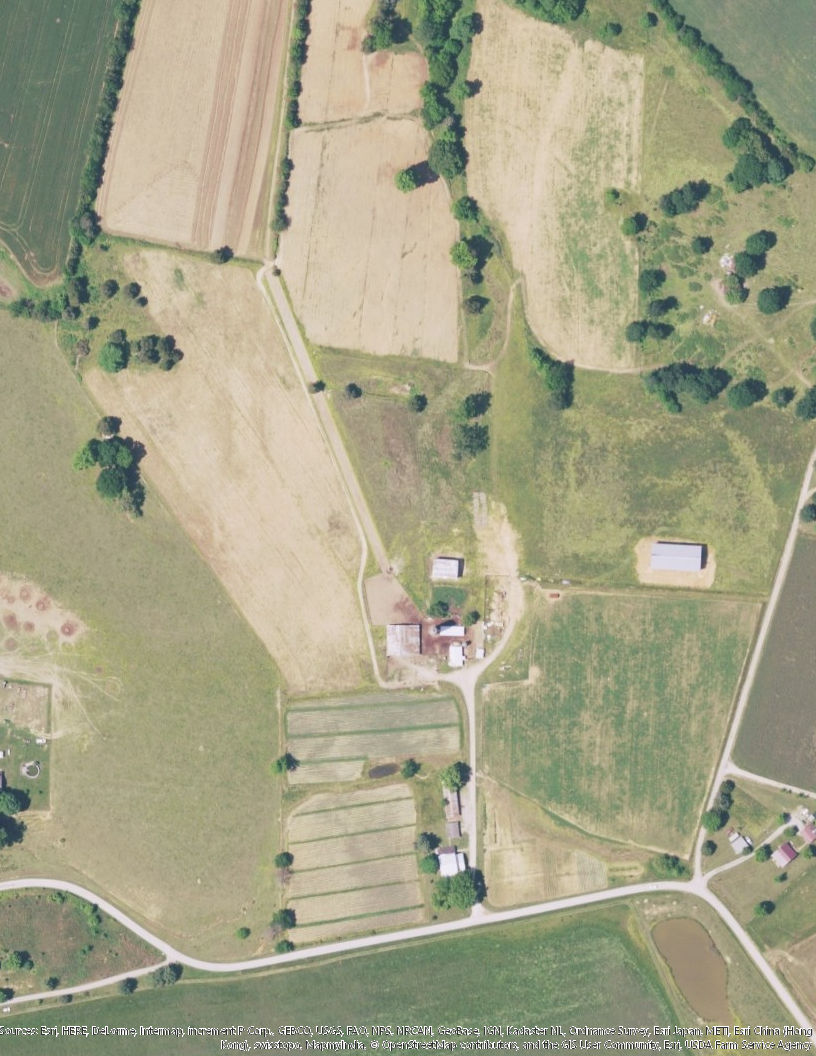cafo: (385, 619, 467, 669), (430, 555, 466, 581)
